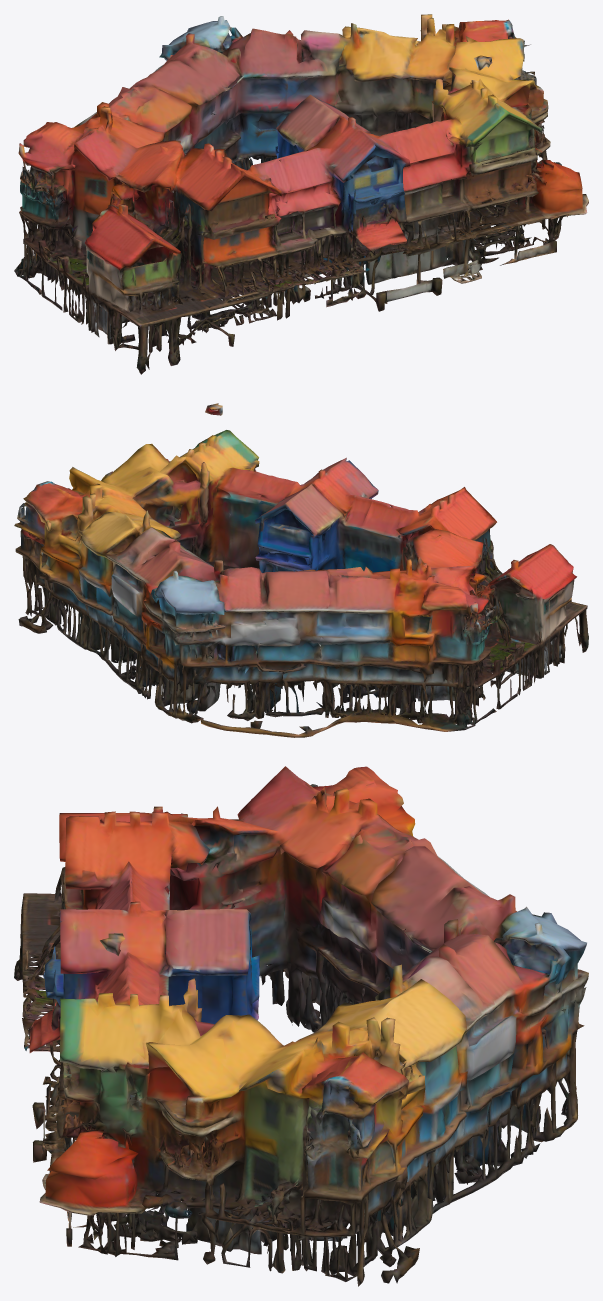
File: island_5.glb
The picture shows the model from 3 angles, top to bottom: view 1: azimuth 30°, elevation 25°; view 2: azimuth 150°, elevation 25°; view 3: azimuth 270°, elevation 25°; orthographic projection. The views are drawn at different scales.
Bounding box in the file's own units: 1.99 × 0.7503 × 1.4.
1 material, 1 textured.
